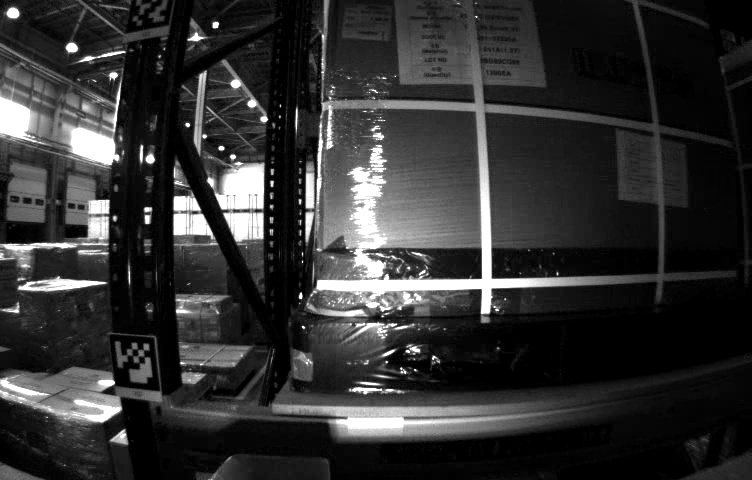True Barcode: (342, 2, 391, 43)
